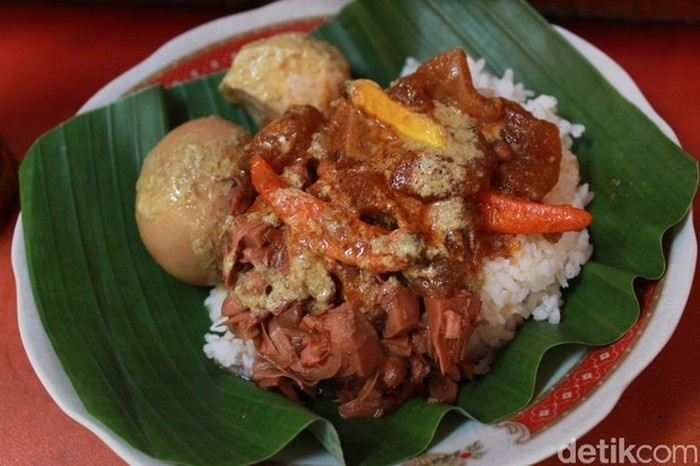gudeg: (133, 33, 593, 424)
